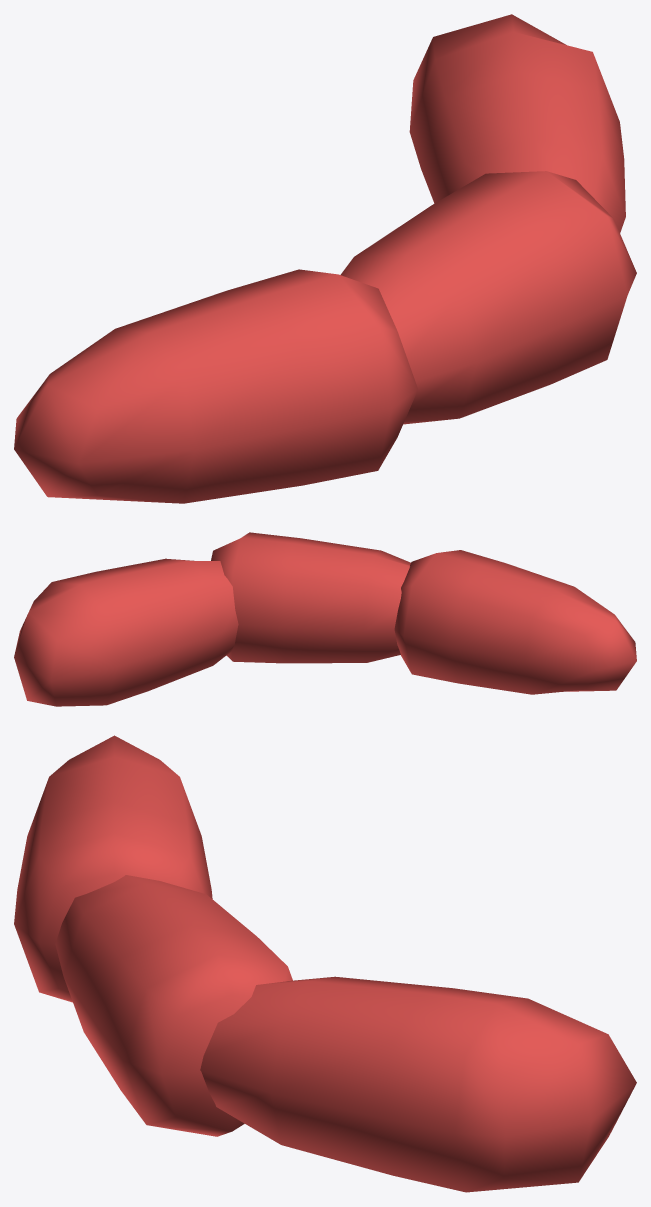
File: Lobster_2_Claw_2.fbx
The picture shows the model from 3 angles, top to bottom: view 1: azimuth 30°, elevation 25°; view 2: azimuth 150°, elevation 25°; view 3: azimuth 270°, elevation 25°; orthographic projection. The views are drawn at different scales.
Visible parts, largest first — view 1: Lobster_2_Claw_2; view 2: Lobster_2_Claw_2; view 3: Lobster_2_Claw_2.
Part boxes in pixels (left/top/right/bottom): Lobster_2_Claw_2: left=14, top=14, right=636, bottom=503; Lobster_2_Claw_2: left=14, top=532, right=636, bottom=706; Lobster_2_Claw_2: left=14, top=735, right=636, bottom=1192.
Size of the model in its own units: 13.38 by 3.15 by 9.56.
